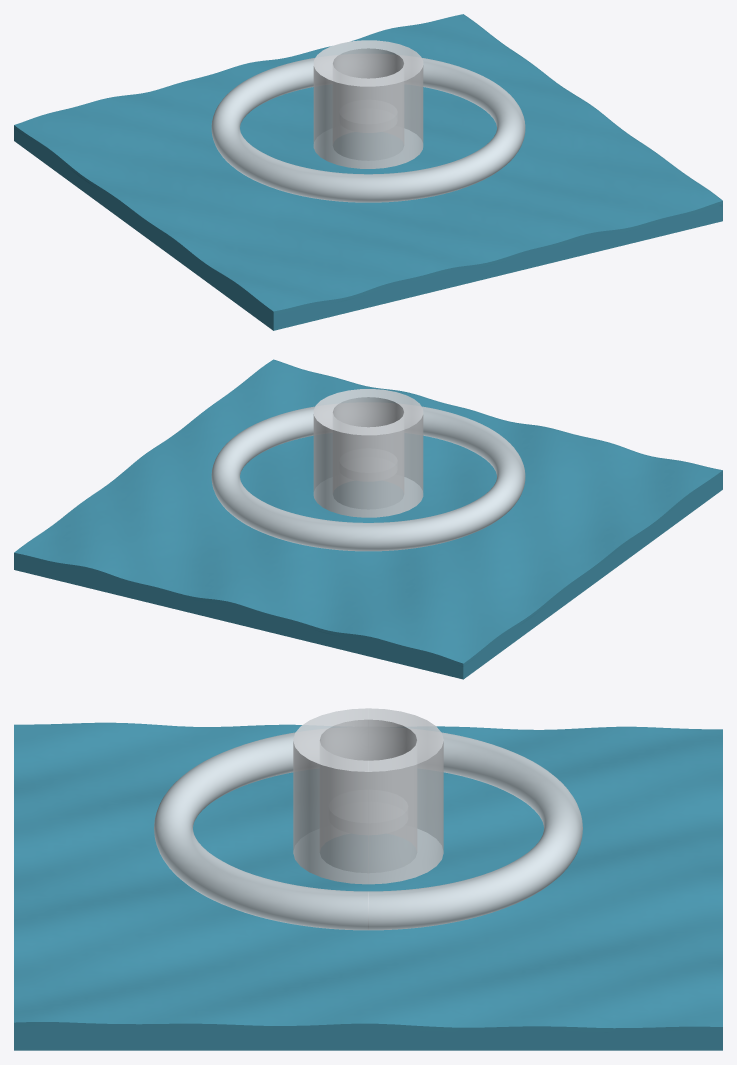
The model's file is tropical-cyclone.glb.
The picture shows the model from 3 angles, top to bottom: view 1: azimuth 30°, elevation 25°; view 2: azimuth 150°, elevation 25°; view 3: azimuth 270°, elevation 25°; orthographic projection. The views are drawn at different scales.
Visible parts, largest first — view 1: Cyclone_Sea, Cyclone_Rainband, Cyclone_Eyewall; view 2: Cyclone_Sea, Cyclone_Rainband, Cyclone_Eyewall; view 3: Cyclone_Sea, Cyclone_Rainband, Cyclone_Eyewall.
Boxes of the visible parts, <box> form: Cyclone_Sea: <box>14,14,722,330</box>; Cyclone_Rainband: <box>211,58,525,202</box>; Cyclone_Eyewall: <box>313,40,423,168</box>; Cyclone_Sea: <box>14,359,722,679</box>; Cyclone_Rainband: <box>211,406,525,551</box>; Cyclone_Eyewall: <box>313,389,423,517</box>; Cyclone_Sea: <box>14,722,722,1050</box>; Cyclone_Rainband: <box>154,732,582,930</box>; Cyclone_Eyewall: <box>293,708,443,884</box>.
Bounding box in the file's own units: 8 × 2 × 8.
